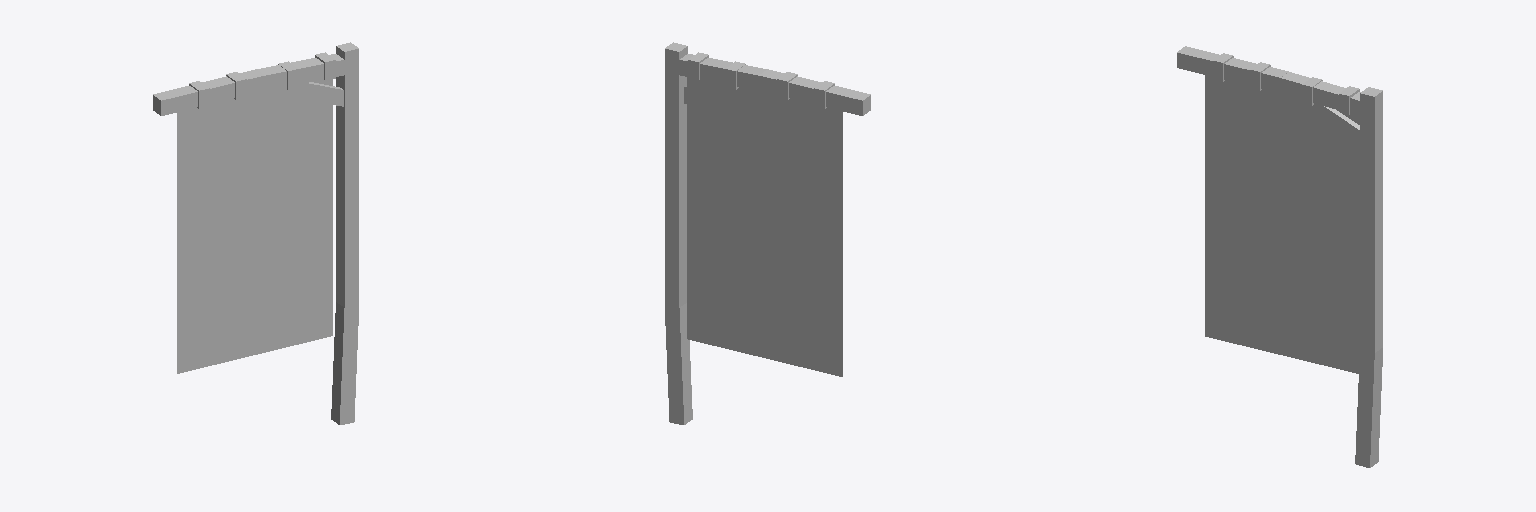
Rendered from eye_banner_1.obj.
The picture shows the model from 3 angles: view 1: azimuth 30°, elevation 25°; view 2: azimuth 150°, elevation 25°; view 3: azimuth 330°, elevation 25°; orthographic projection.
Parts seen in each view (by area): view 1: cube; view 2: cube; view 3: cube.
Boxes of the visible parts, x1,y1,x2,y2 form: cube: [153, 42, 358, 424]; cube: [665, 42, 870, 424]; cube: [1177, 46, 1382, 467].
Bounding box in the file's own units: 1.67 × 3 × 0.15.